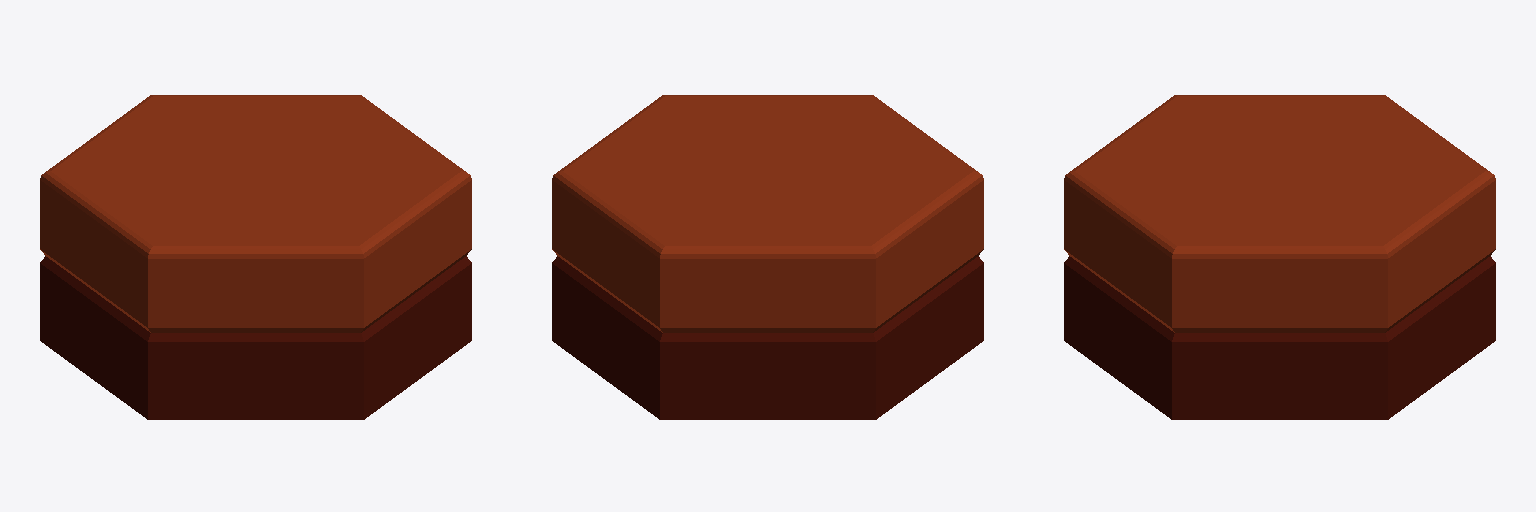
File: hex_rock_detail.obj
3 renders of one model, left to right at view 1: azimuth 30°, elevation 25°; view 2: azimuth 150°, elevation 25°; view 3: azimuth 270°, elevation 25°, orthographic.
Visible parts, largest first — view 1: hex_rock_detail_Cylinder.582; view 2: hex_rock_detail_Cylinder.582; view 3: hex_rock_detail_Cylinder.582.
Boxes of the visible parts, x1=… form: hex_rock_detail_Cylinder.582: x1=40, y1=95, x2=471, y2=419; hex_rock_detail_Cylinder.582: x1=552, y1=95, x2=983, y2=419; hex_rock_detail_Cylinder.582: x1=1064, y1=95, x2=1495, y2=419.
Size of the model in its own units: 2 by 1 by 2.31.